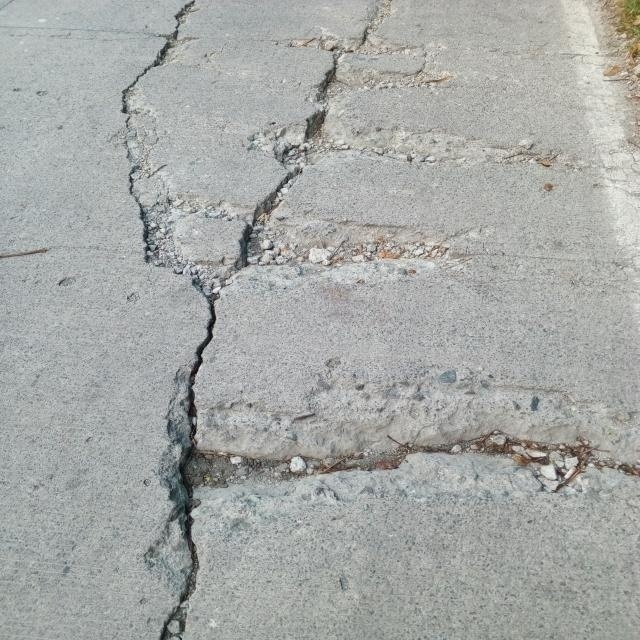pothole: (99, 90, 616, 502)
